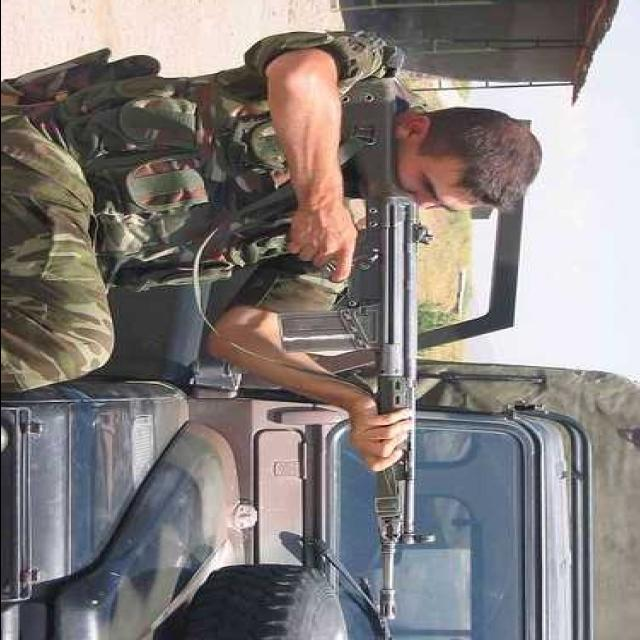heavyweapon: (220, 70, 483, 633)
